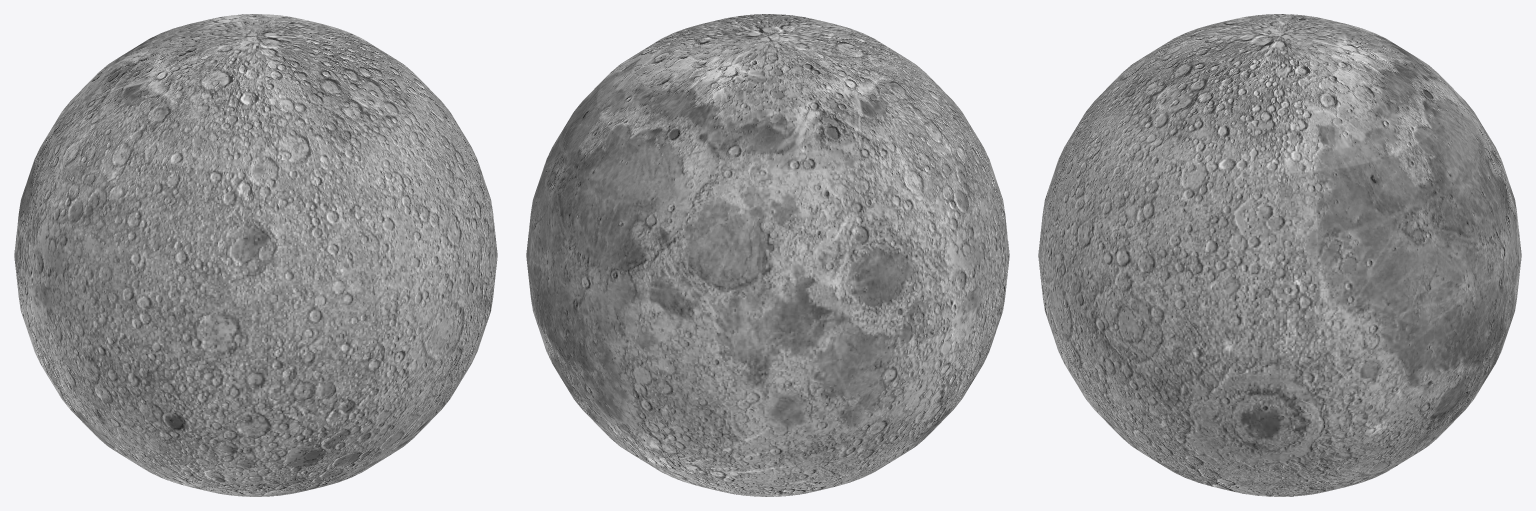
The model's file is moon.glb.
3 views of the same model, side by side, from view 1: azimuth 30°, elevation 25°; view 2: azimuth 150°, elevation 25°; view 3: azimuth 270°, elevation 25° (orthographic).
Parts seen in each view (by area): view 1: Moon; view 2: Moon; view 3: Moon.
Boxes of the visible parts, left/top/right/bottom form: Moon: left=14, top=14, right=497, bottom=496; Moon: left=526, top=14, right=1009, bottom=496; Moon: left=1038, top=14, right=1521, bottom=496.
Size of the model in its own units: 17 by 17 by 17.
1 material, 1 textured.
